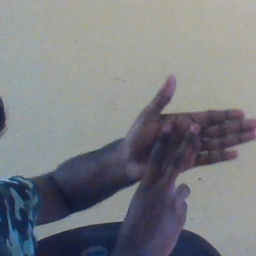N: (115, 70, 256, 215)
